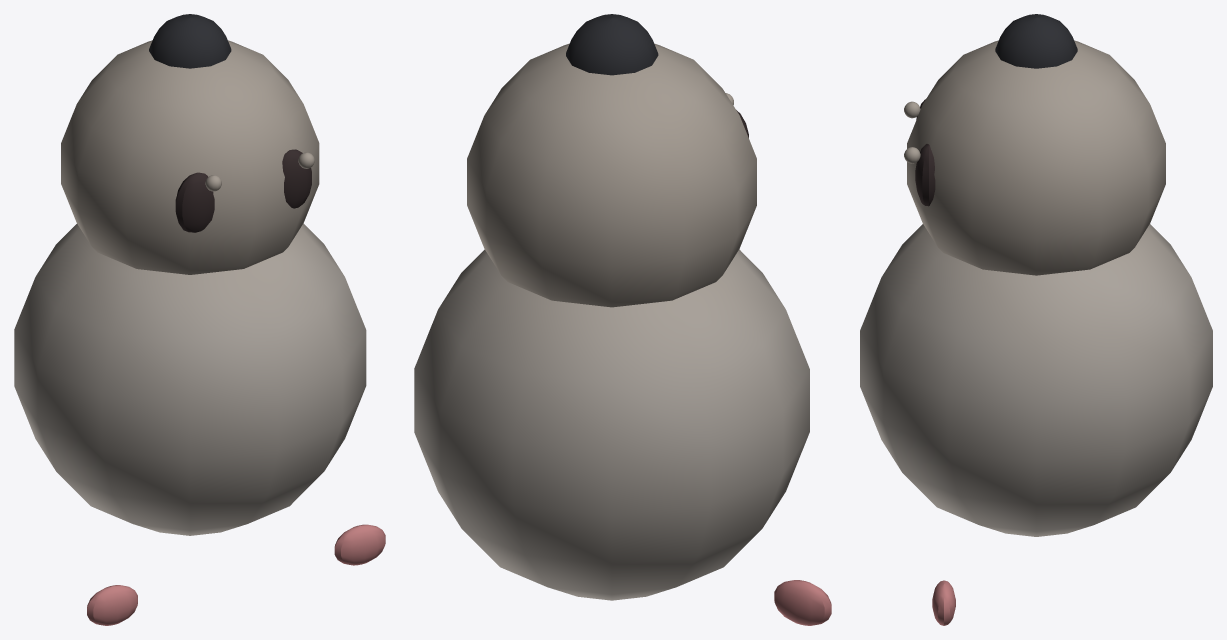
The picture shows the model from 3 angles, left to right: view 1: azimuth 30°, elevation 25°; view 2: azimuth 150°, elevation 25°; view 3: azimuth 270°, elevation 25°; orthographic projection. The views are drawn at different scales.
Parts seen in each view (by area): view 1: pet_p61209408; view 2: pet_p61209408; view 3: pet_p61209408.
Part boxes in pixels (<box>): pet_p61209408: <box>14,14,385,625</box>; pet_p61209408: <box>414,14,831,625</box>; pet_p61209408: <box>860,14,1212,625</box>.
Bounding box in the file's own units: 0.2954 × 0.5026 × 0.2954.
